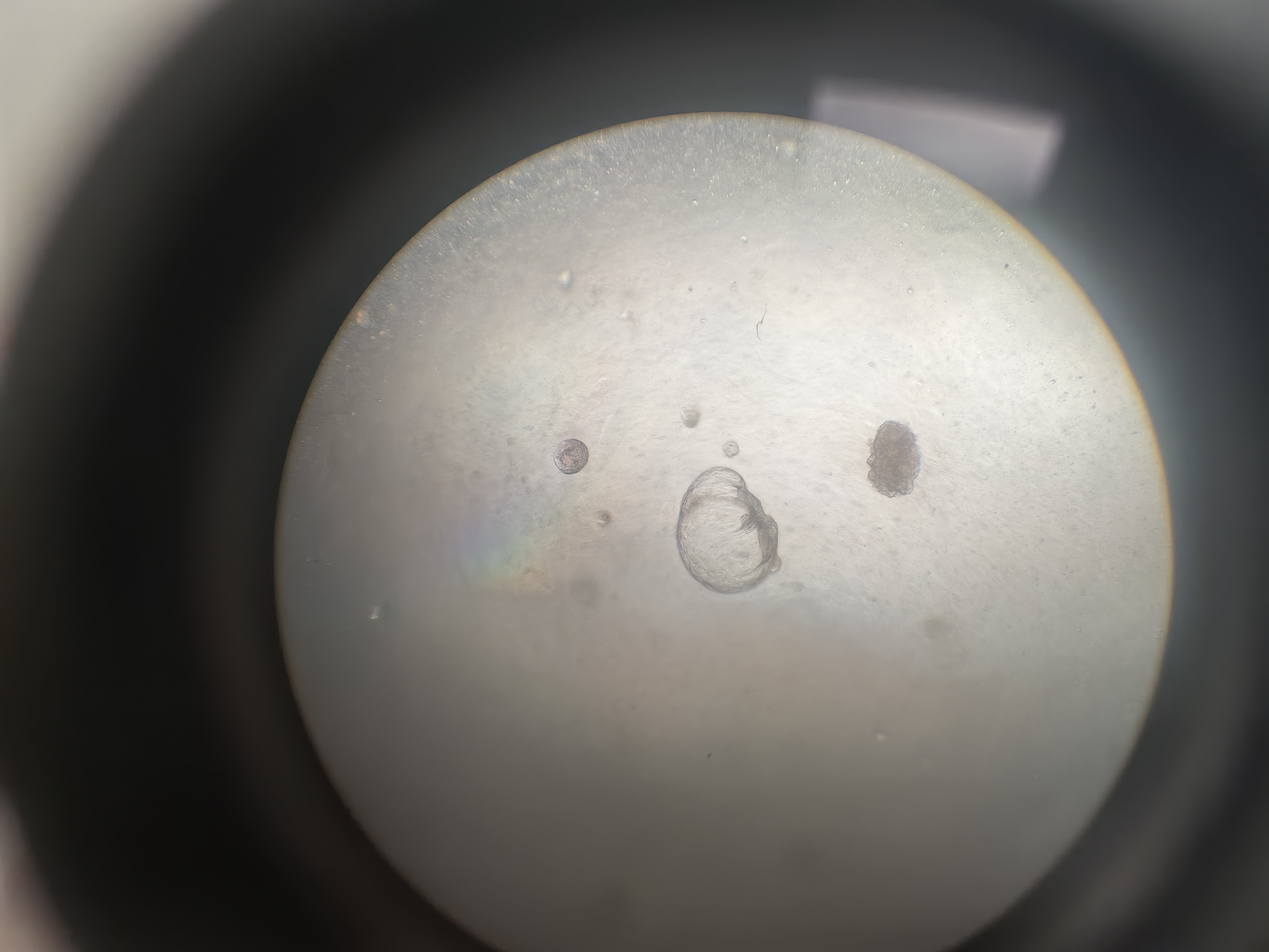organoid: (740, 701, 799, 763), (626, 502, 666, 544), (604, 680, 631, 707)
